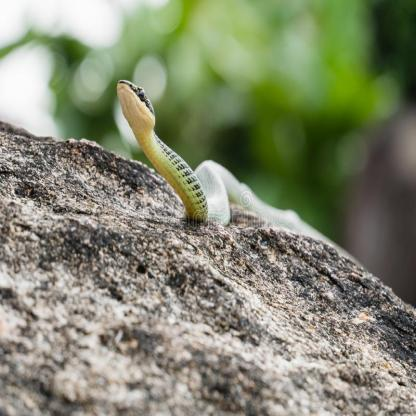Snake: (116, 75, 244, 235)
